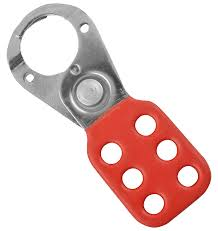hasp: (6, 4, 211, 229)
